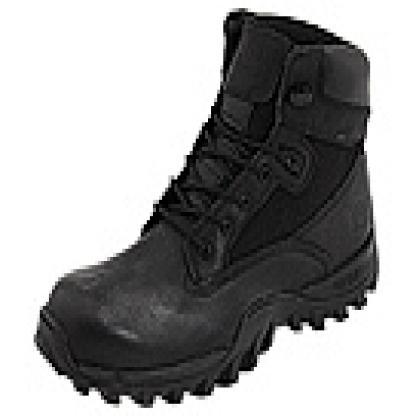bota: (38, 8, 385, 404)
